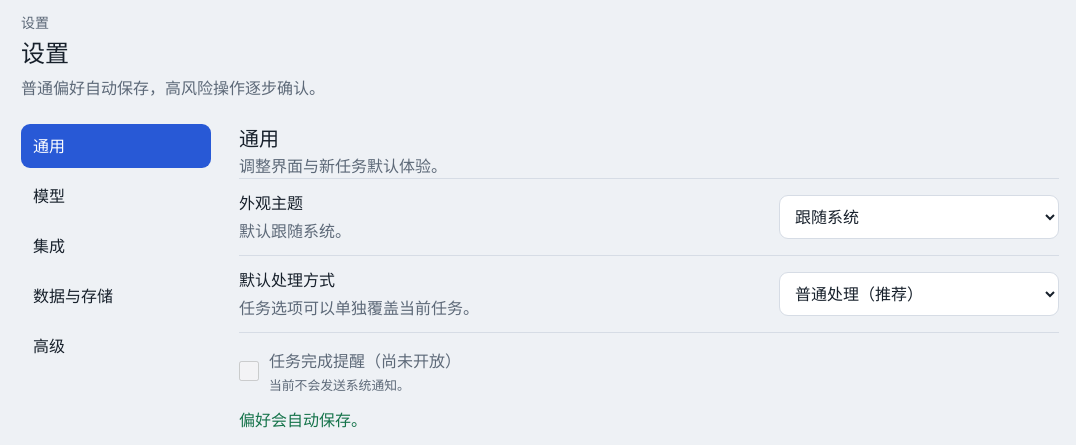
Test: SettingsPage › separates data migration and keeps it disabled without backend capability
The image size is (1076, 445).
What coordinates should you click on to do the following:
click the tab "数据与存储"
I would click on:
 (116, 296)
Its box is [21, 274, 211, 318].
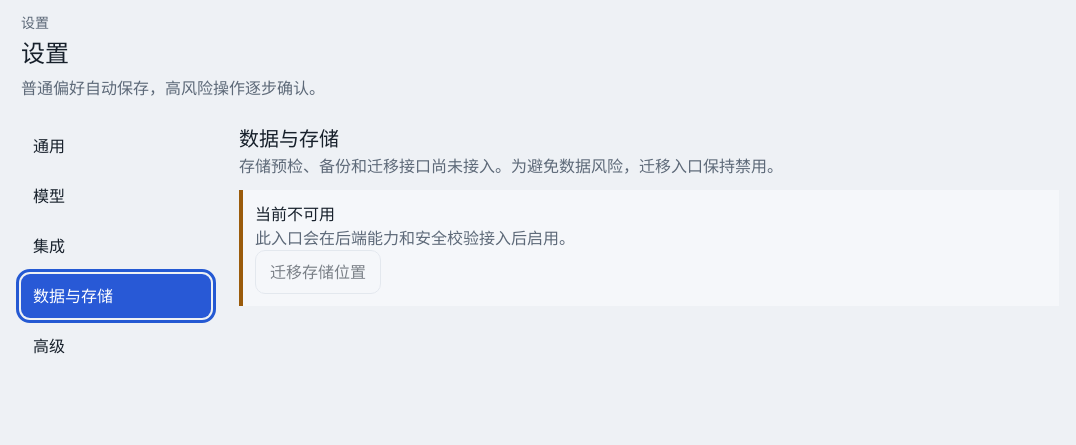
Expected: the heading "数据与存储" is shown, [239, 127, 339, 151]
Expected: the button "迁移存储位置" is disabled, [255, 250, 381, 294]
Expected: the text "存储预检、备份和迁移接口尚未接入。为避免数据风险，迁移入口保持禁用。" is shown, [239, 156, 783, 176]
